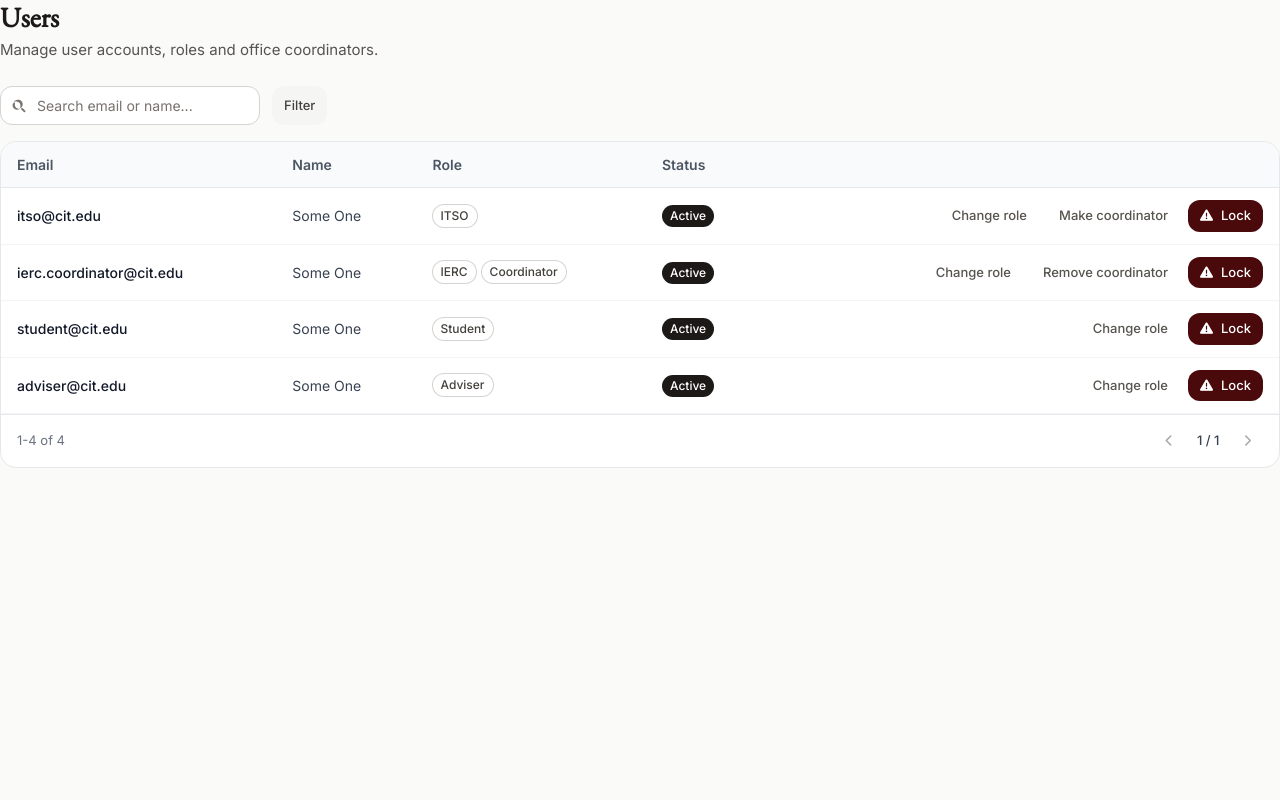
it: granting › shows a refusal in the dialog and leaves the row as it was
The image size is (1280, 800).
Click the button "Make coordinator" at (1114, 216), box [1047,200,1180,232]
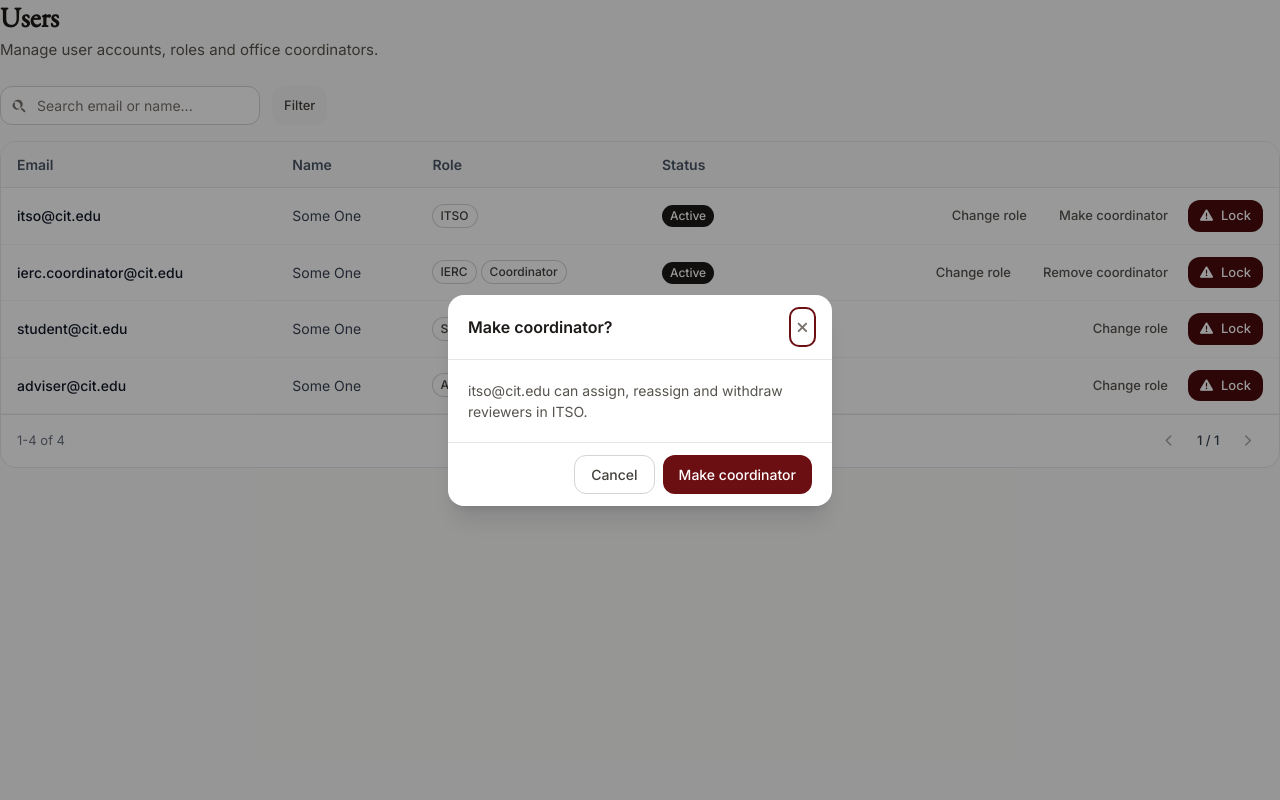
Click the button "Make coordinator" at (737, 474), box [663,454,812,494]
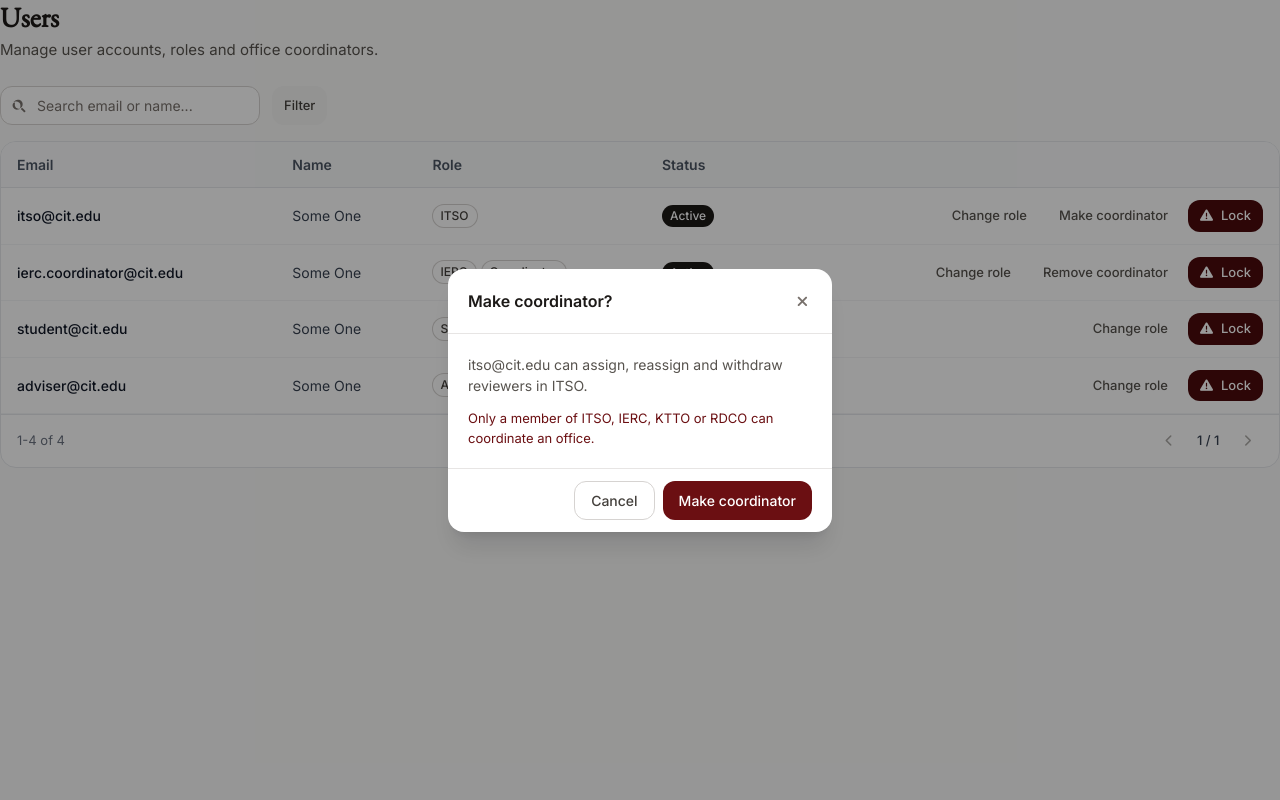
Check: the dialog "Make coordinator?" is shown, box [448,268,832,532]
Check: the message reads "Only a member of ITSO, IERC, KTTO or RDCO can coordinate an office.", box [468,410,774,446]
